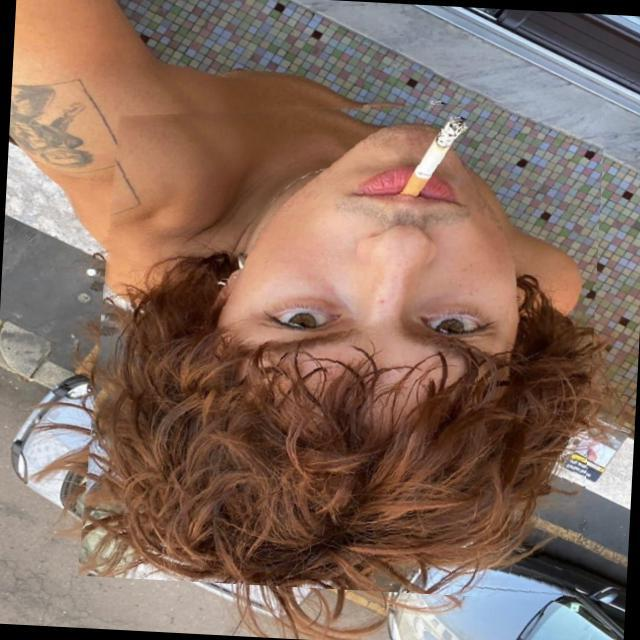cigarette: (358, 68, 477, 208)
